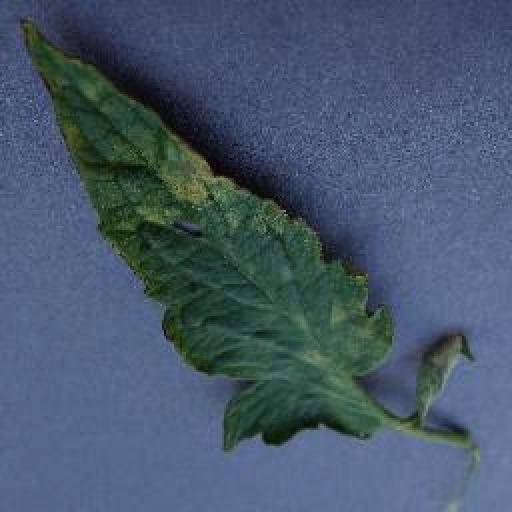disease_tomato: (19, 14, 395, 452)
